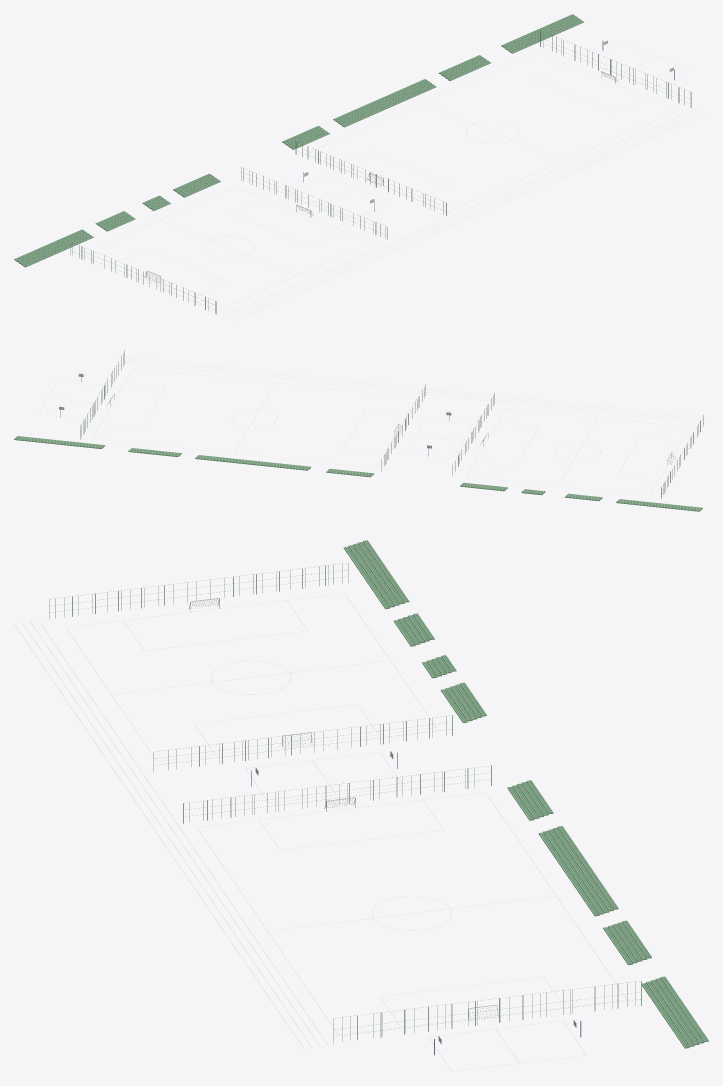
3 views of the same model, one above another, from view 1: azimuth 30°, elevation 25°; view 2: azimuth 150°, elevation 25°; view 3: azimuth 270°, elevation 25° (orthographic). The views are drawn at different scales.
Parts seen in each view (by area): view 1: girls-front-stand, boys-front-stand, field-open-mesh-fences; view 2: girls-front-stand, field-open-mesh-fences, boys-front-stand, three-lane-track-markings, girls-field-markings, boys-field-markings; view 3: girls-front-stand, field-open-mesh-fences, boys-front-stand, three-lane-track-markings, girls-field-markings, boys-field-markings.
Boxes of the visible parts, left/top/right/bottom form: girls-front-stand: left=282, top=14, right=583, bottom=149; boys-front-stand: left=14, top=173, right=220, bottom=267; field-open-mesh-fences: left=70, top=30, right=691, bottom=314; girls-front-stand: left=14, top=436, right=374, bottom=477; field-open-mesh-fences: left=80, top=350, right=703, bottom=498; boys-front-stand: left=460, top=482, right=702, bottom=511; three-lane-track-markings: left=124, top=357, right=707, bottom=423; girls-field-markings: left=92, top=368, right=416, bottom=468; boys-field-markings: left=466, top=408, right=689, bottom=495; girls-front-stand: left=507, top=780, right=708, bottom=1048; field-open-mesh-fences: left=49, top=563, right=641, bottom=1042; boys-front-stand: left=343, top=540, right=486, bottom=722; three-lane-track-markings: left=14, top=621, right=328, bottom=1048; girls-field-markings: left=197, top=792, right=626, bottom=1034; boys-field-markings: left=65, top=593, right=436, bottom=761.
Bounding box in the file's own units: 249 × 5.49 × 139.
